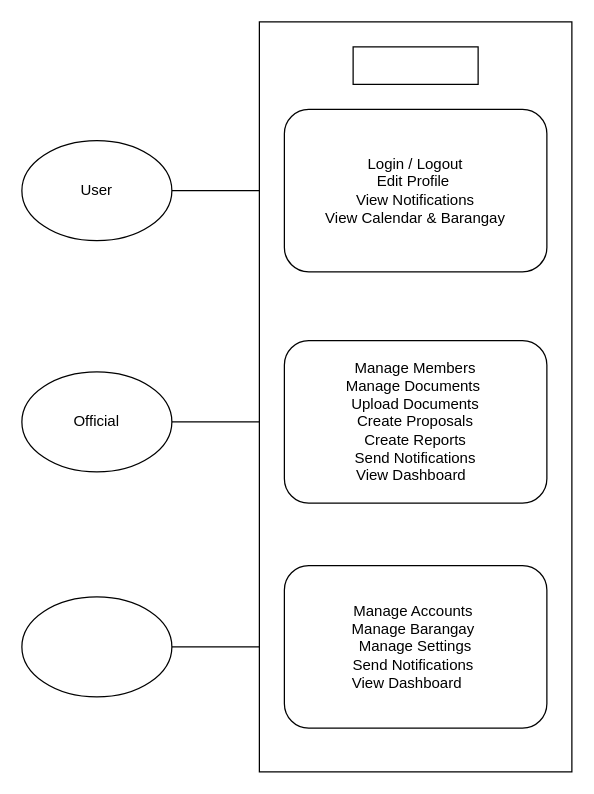
Image size: 594x794. Some labels were removed from this diagram. The shapes that lost their labels are listed below. From the top down, each one's centre as x and y in pixels, then its label:
At point 415,65: "SKAct-Hub".
At point 96,646: "Admin".
